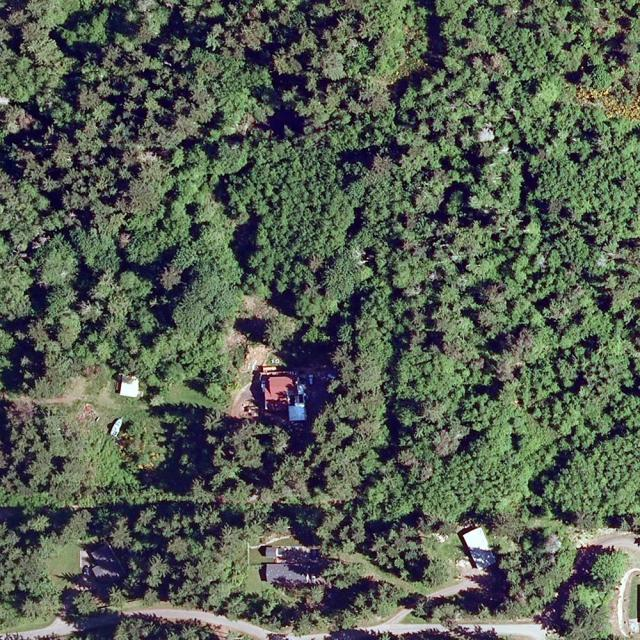building: (249, 365, 334, 424), (254, 543, 330, 590), (456, 521, 498, 573), (86, 540, 126, 582), (119, 375, 139, 398)
greenland: (147, 404, 389, 559), (0, 399, 132, 548), (240, 575, 409, 639), (364, 512, 467, 601), (495, 525, 583, 619), (145, 536, 248, 610), (88, 501, 190, 554), (115, 400, 165, 504), (412, 596, 504, 627), (112, 615, 219, 639), (0, 600, 62, 633)
metalled_road: (140, 596, 272, 640), (426, 554, 488, 618), (589, 517, 640, 569), (0, 612, 78, 640), (74, 610, 129, 632), (381, 604, 414, 633), (380, 624, 448, 633), (378, 623, 417, 634), (474, 571, 495, 583), (420, 623, 438, 629)
